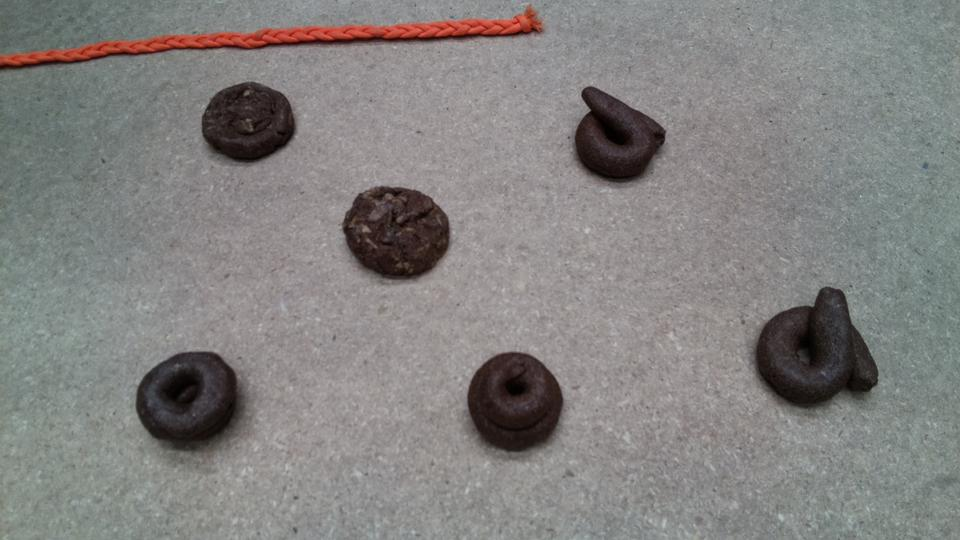poop: (752, 282, 882, 411), (339, 182, 455, 283), (131, 347, 243, 448), (466, 347, 567, 457), (570, 83, 671, 184), (197, 79, 298, 167)
rope: (1, 7, 544, 68)
